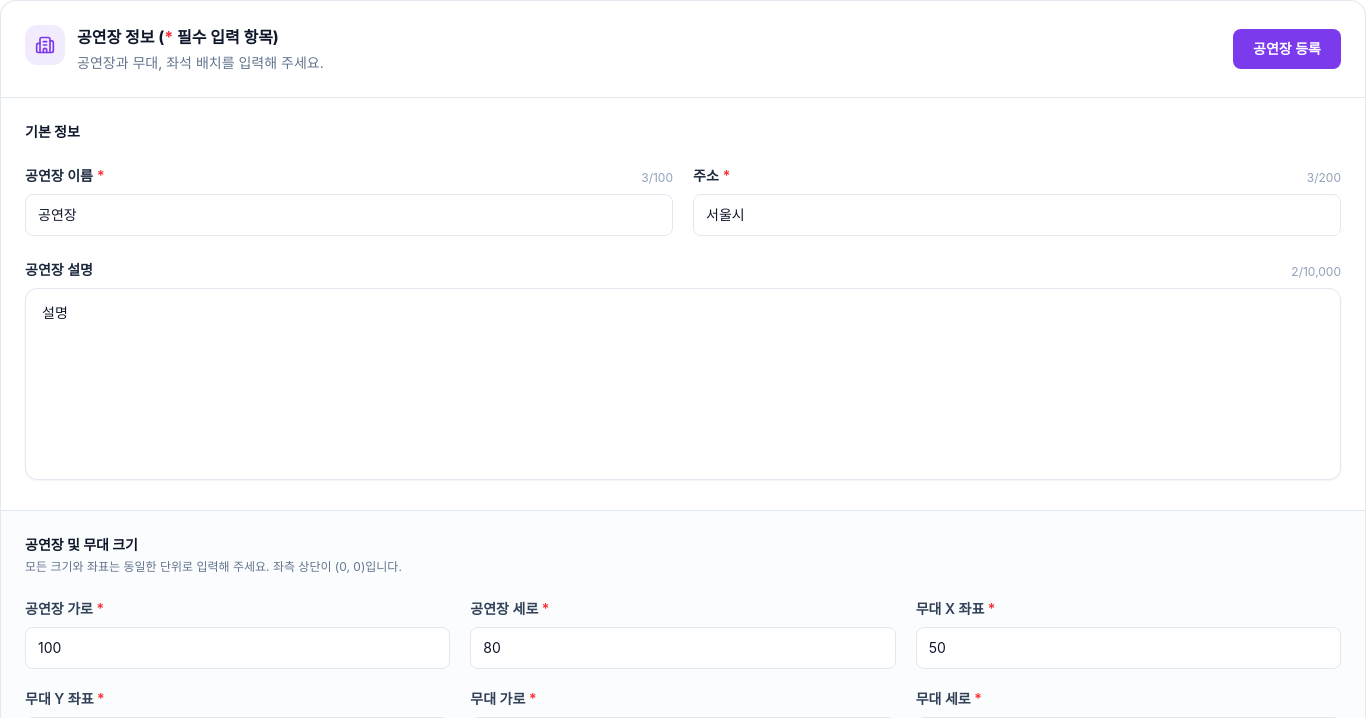
VenueForm › 제출 검증에 실패하면 오류 개수와 영역을 안내한다
The width and height of the screenshot is (1366, 718).
Clear the field labelled "공연장 이름*" at (349, 215), box [25,194,673,236]
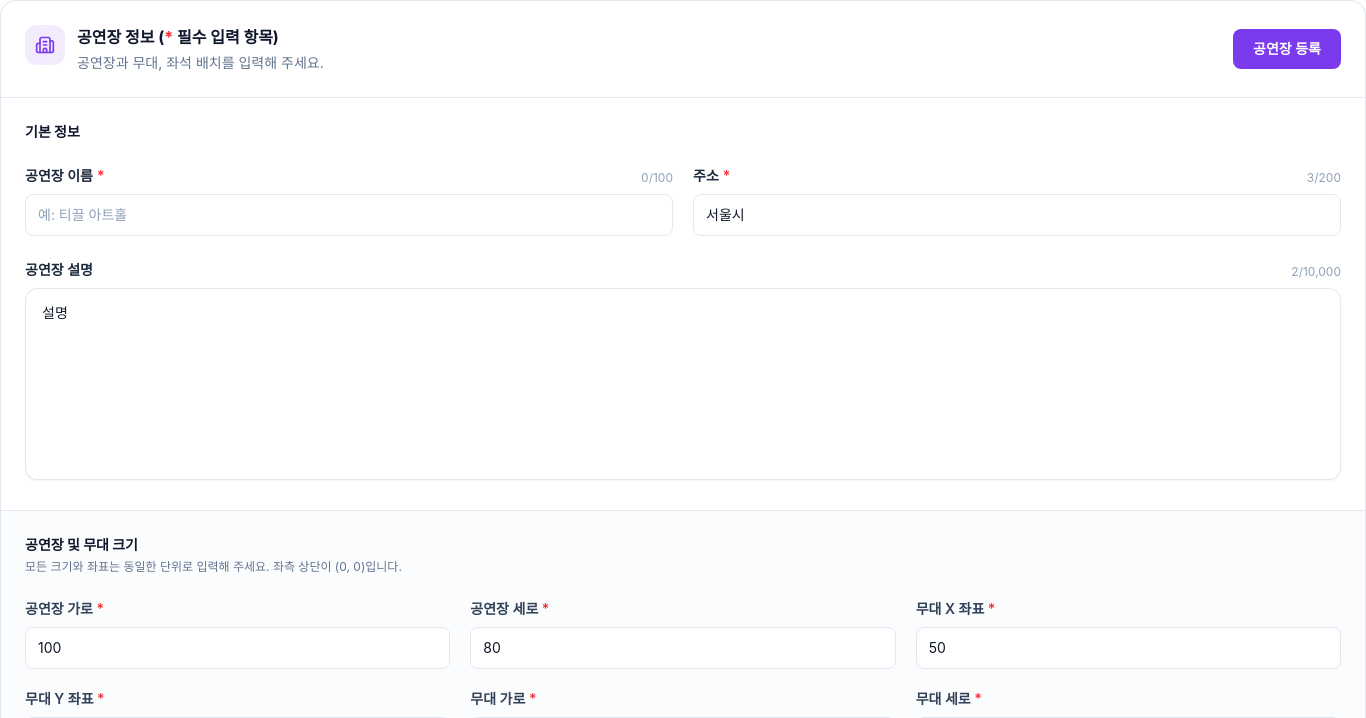
Click the button "공연장 등록" at (1287, 49), box [1233,29,1341,69]
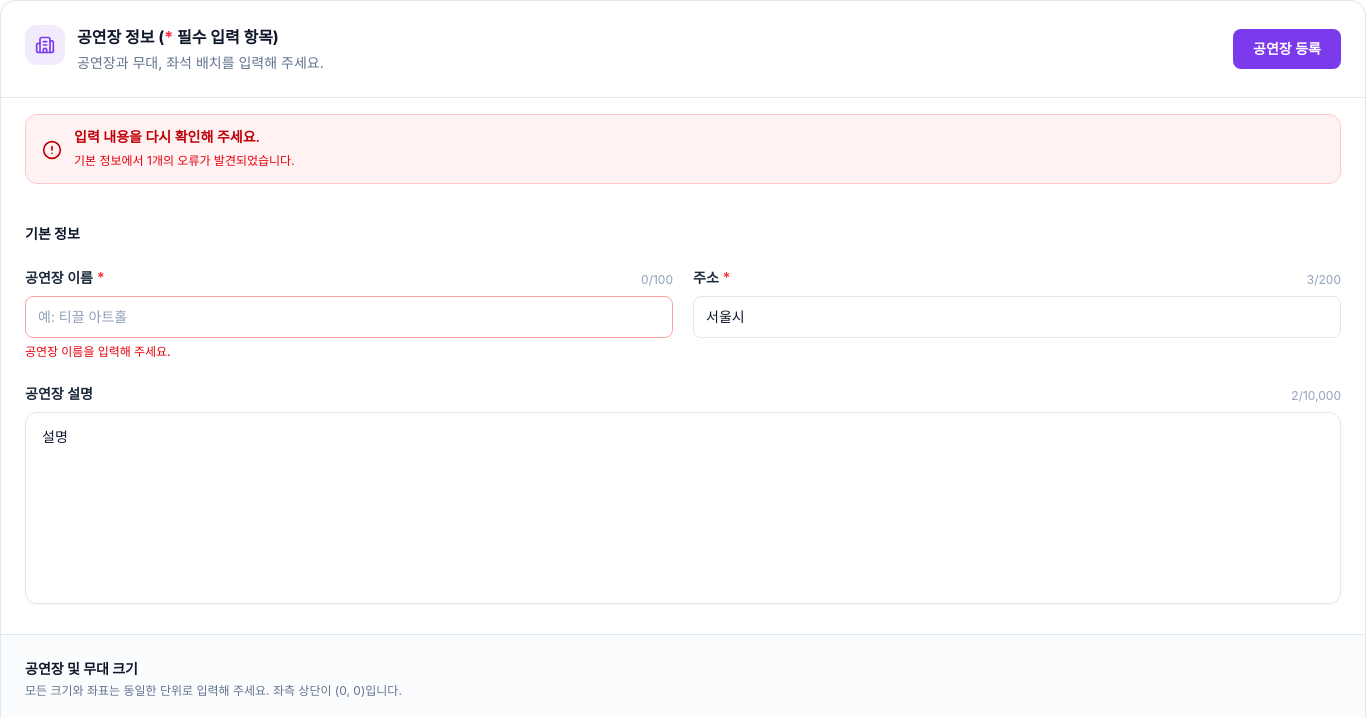
Now the text "공연장 이름을 입력해 주세요." is shown, box [25,344,171,359]
Now the text "기본 정보에서 1개의 오류가 발견되었습니다." is shown, box [74,151,295,171]
